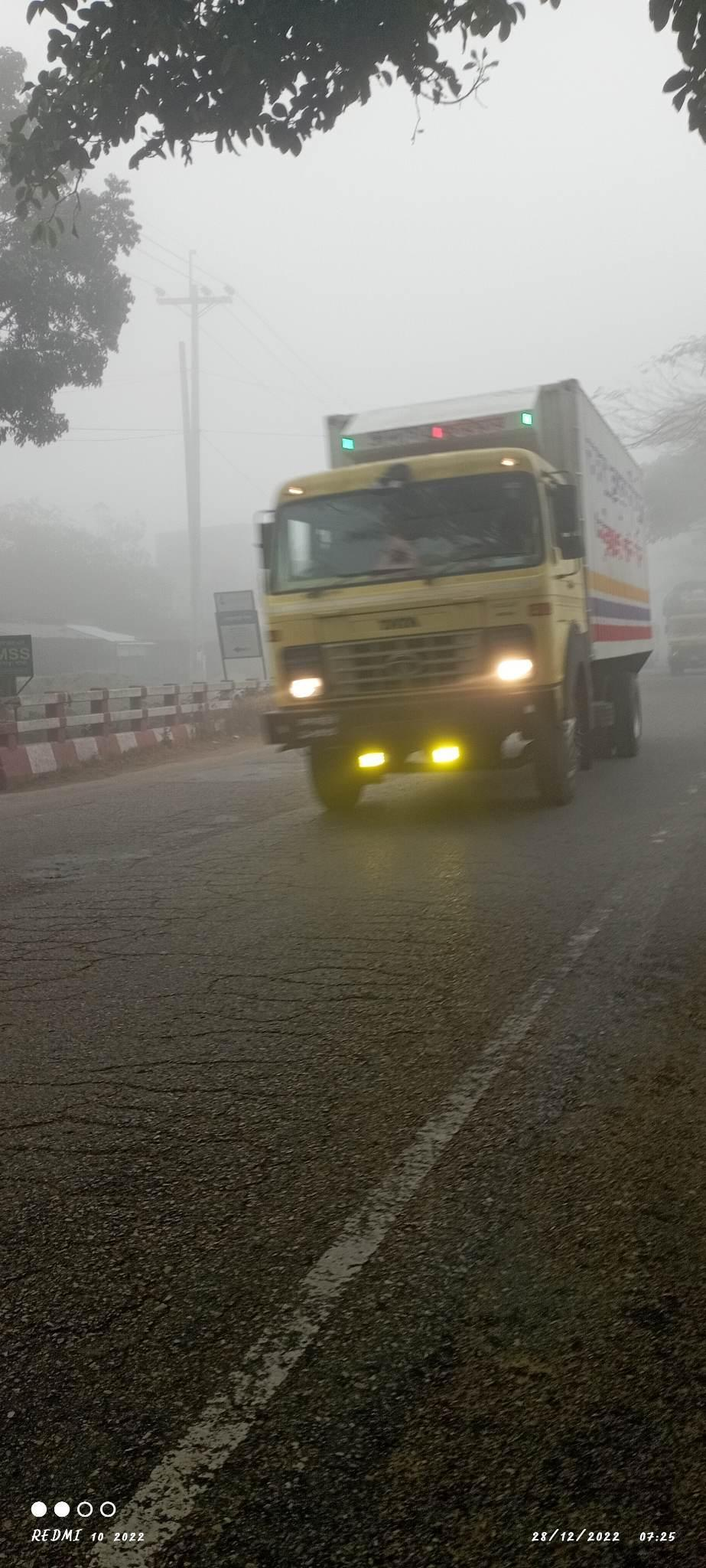Truck: (200, 338, 678, 829)
